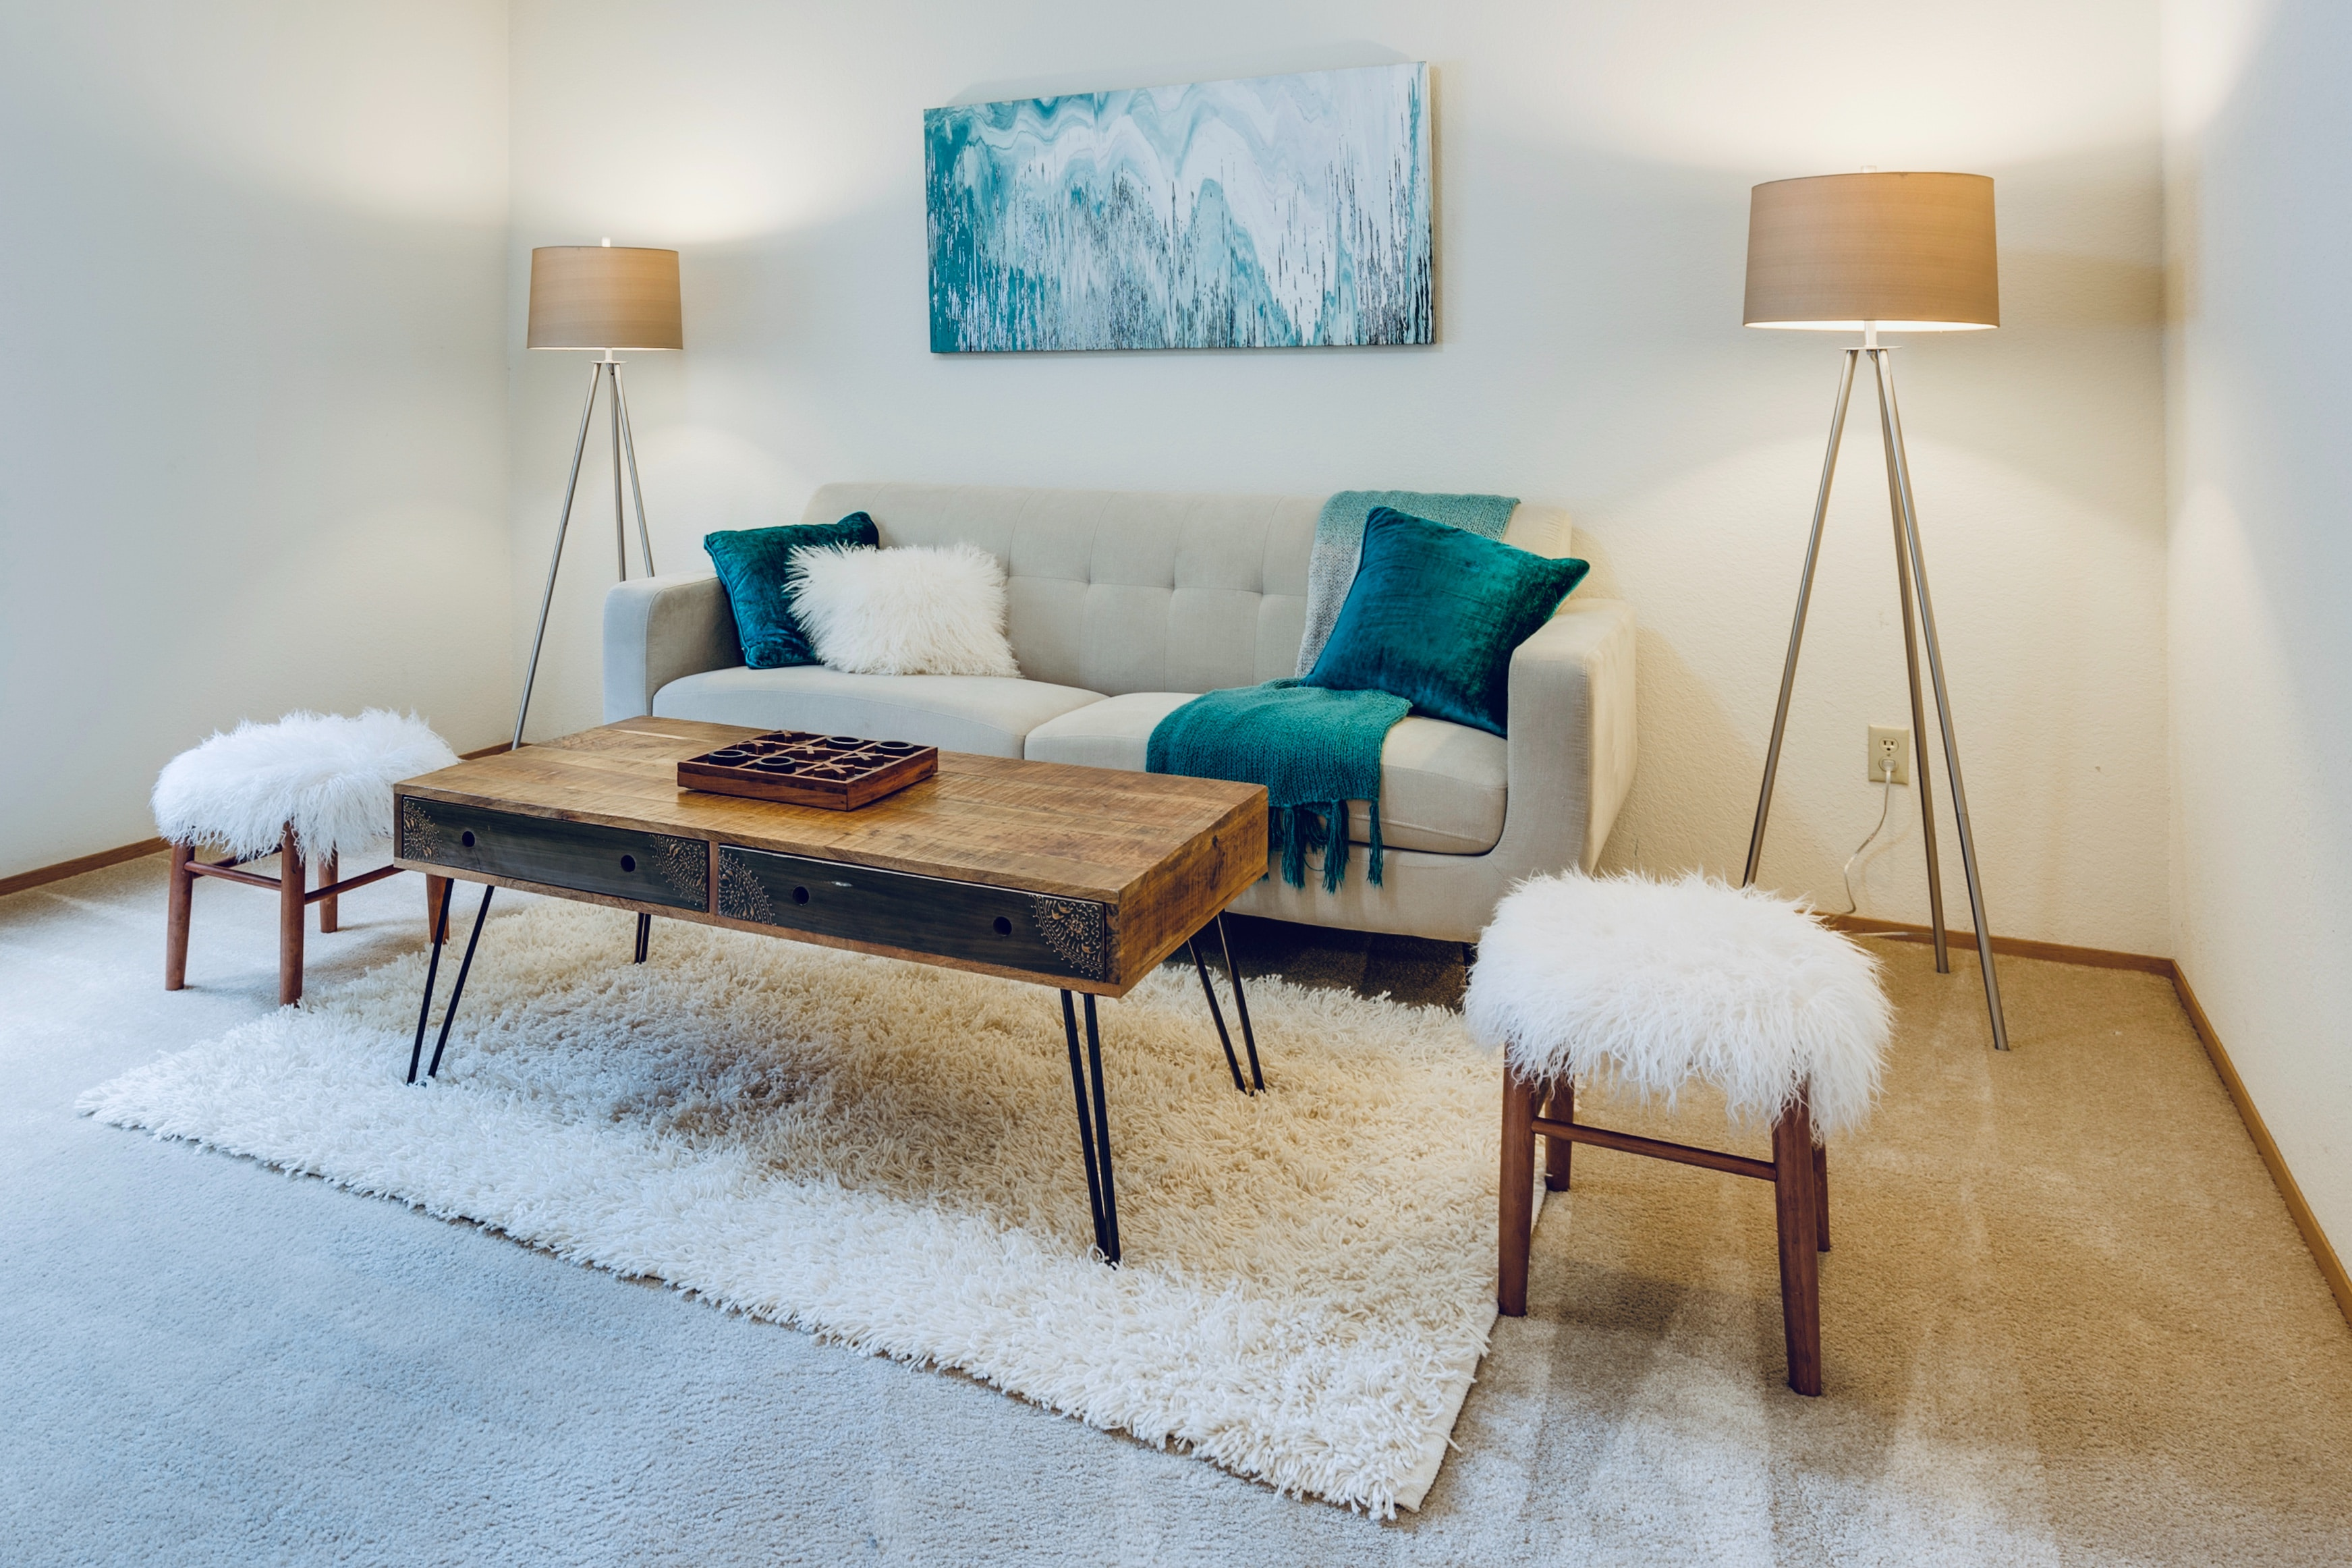Chair: (1463, 868, 1906, 1405), (145, 689, 457, 1010)
Painting: (898, 47, 1489, 369)
Sofa: (588, 437, 1662, 975)
Table: (353, 670, 1298, 1284)
